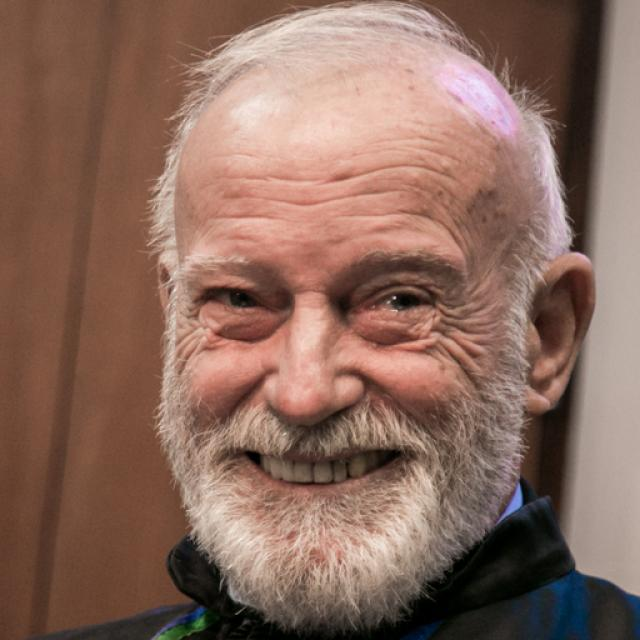Wrinkle: (339, 203, 468, 265), (225, 161, 460, 186), (227, 183, 428, 208), (204, 206, 290, 227)
